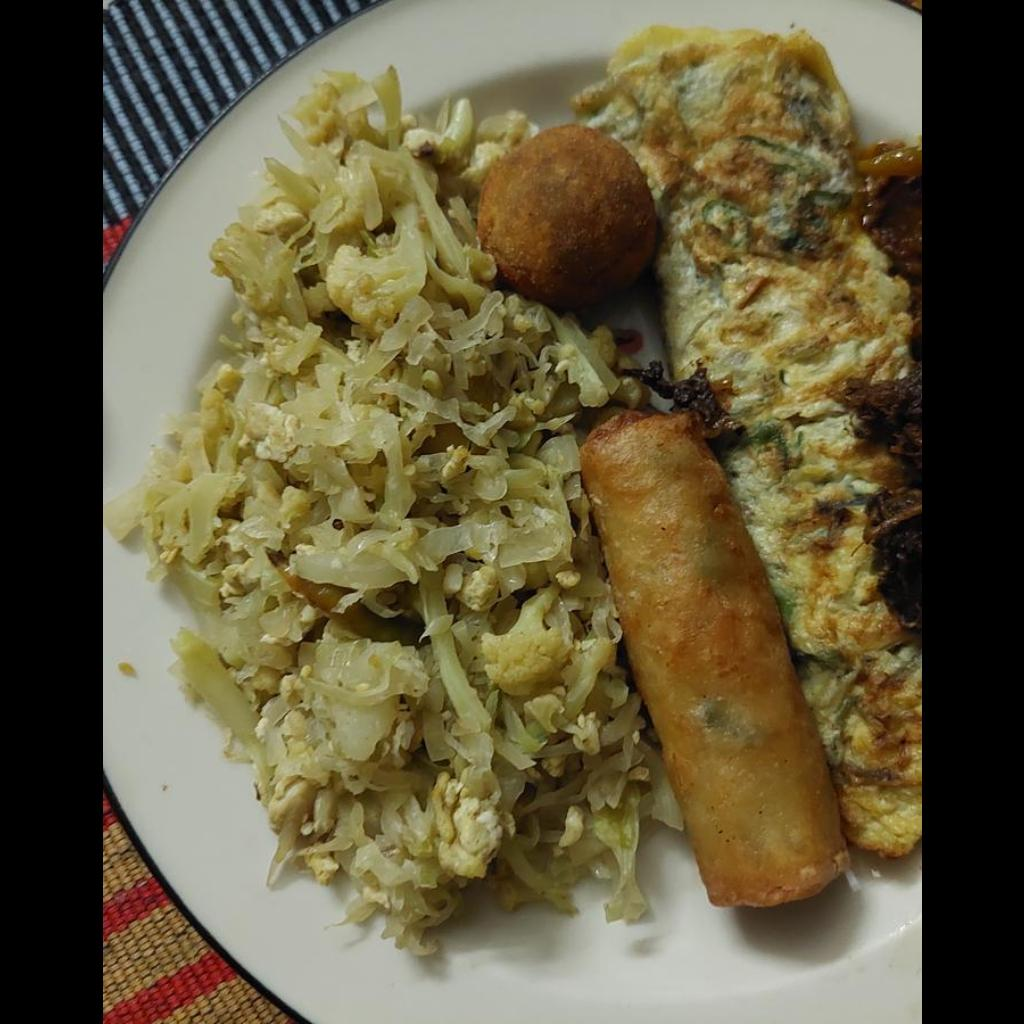egg-poached: (573, 26, 920, 865)
kabab: (480, 124, 648, 294)
roll: (581, 415, 848, 909)
vaji: (110, 64, 660, 965)
